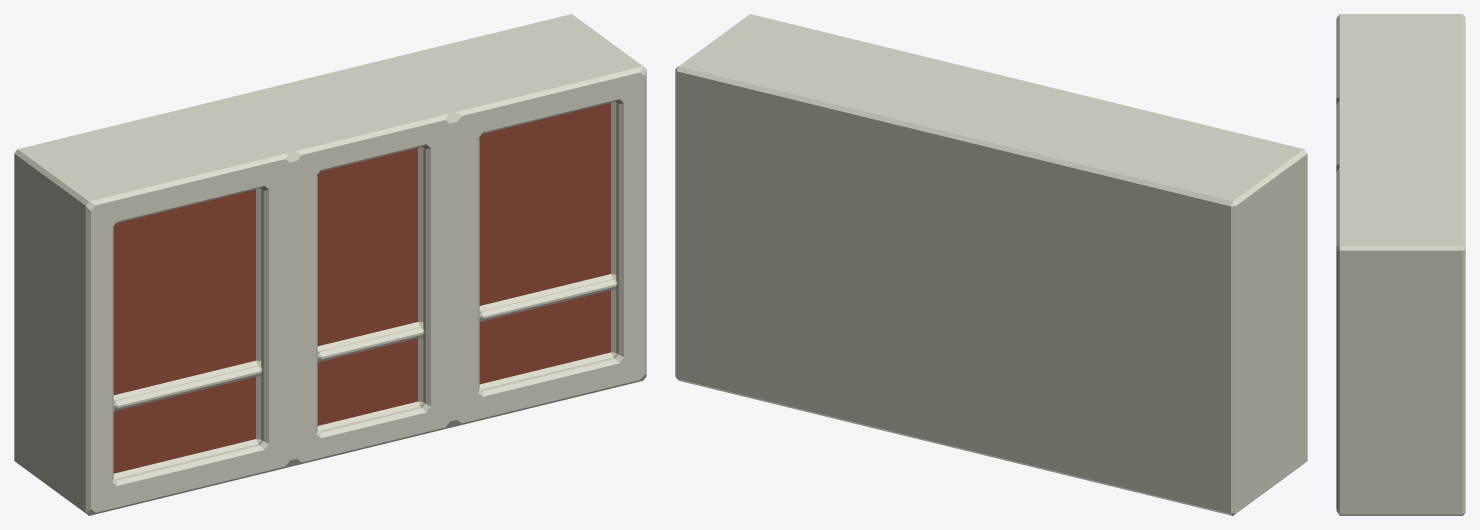
Rendered from window3_textured.fbx.
3 renders of one model, left to right at view 1: azimuth 30°, elevation 25°; view 2: azimuth 150°, elevation 25°; view 3: azimuth 270°, elevation 25°, orthographic. The views are drawn at different scales.
Visible parts, largest first — view 1: Cube.032; view 2: Cube.032; view 3: Cube.032.
Part boxes in pixels (x1,y1,x2,y2): Cube.032: (14, 14, 646, 515); Cube.032: (675, 14, 1307, 515); Cube.032: (1336, 14, 1465, 515).
Size of the model in its own units: 115 by 61.77 by 26.83.
